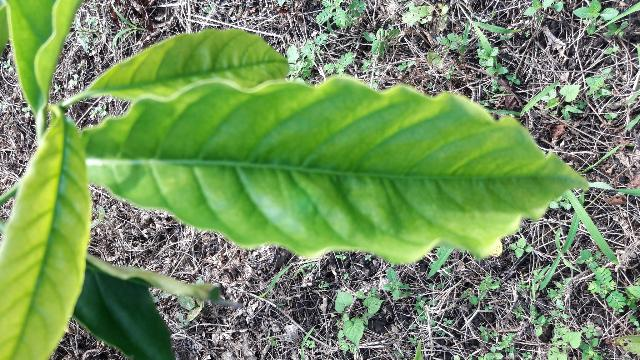healthy: (82, 70, 601, 267)
